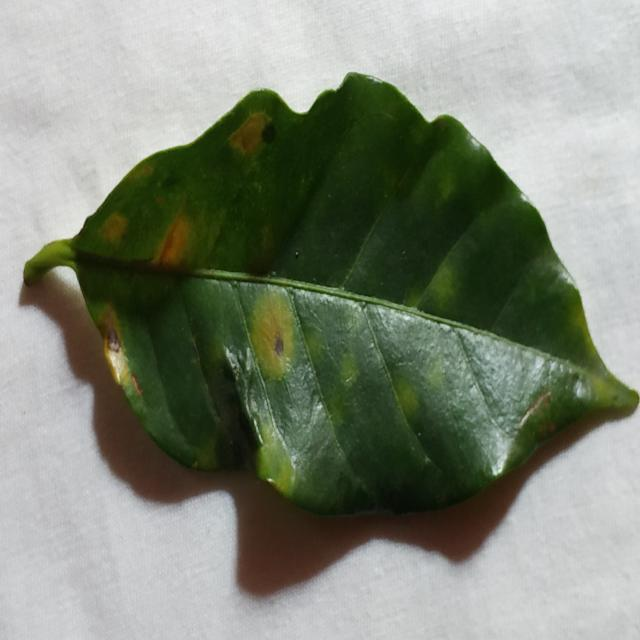Enfermedad-Roya: (22, 74, 640, 519)
